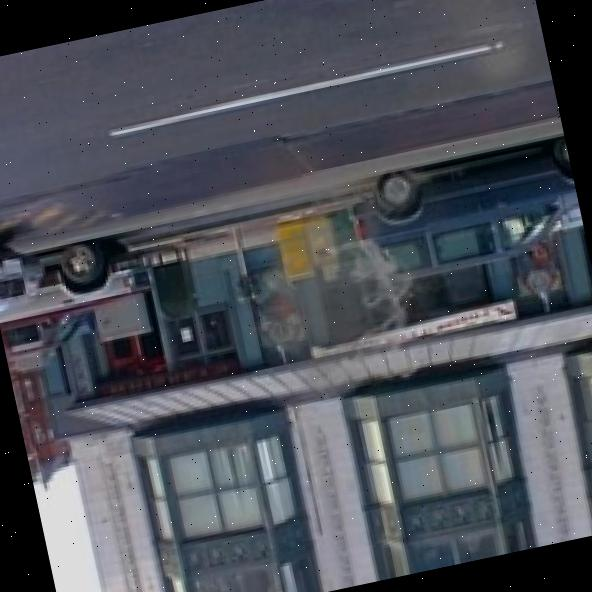smoke: (209, 149, 504, 417)
